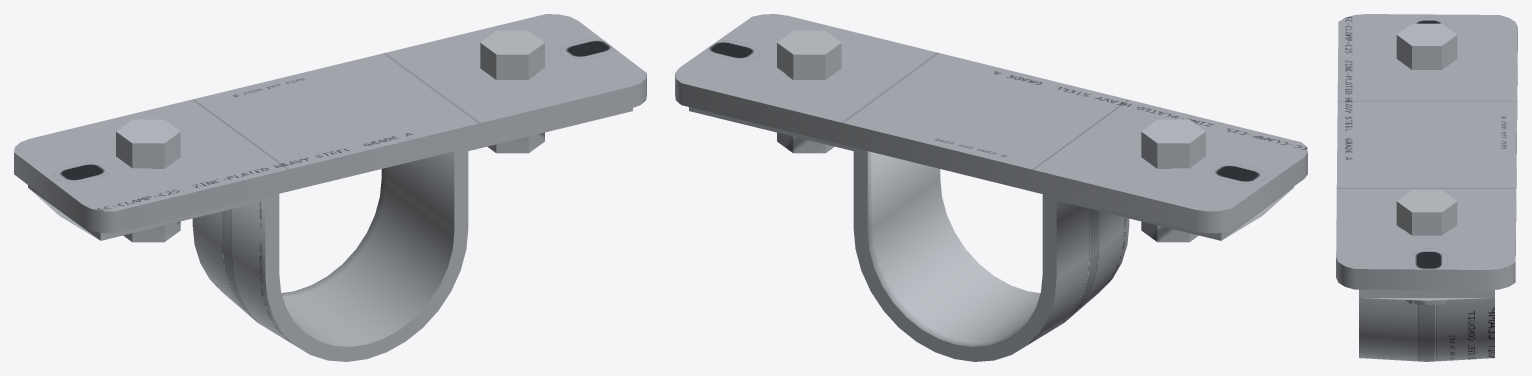
File: SEC_Ceiling_Conduit_Clamp.fbx
3 views of the same model, side by side, from view 1: azimuth 30°, elevation 25°; view 2: azimuth 150°, elevation 25°; view 3: azimuth 270°, elevation 25° (orthographic). The views are drawn at different scales.
Parts seen in each view (by area): view 1: Ceiling_Plate, Clamp_Band, Screw_Left, Screw_Right; view 2: Ceiling_Plate, Clamp_Band, Screw_Left, Screw_Right; view 3: Ceiling_Plate, Clamp_Band, Screw_Right, Screw_Left.
Part boxes in pixels (<box>): Ceiling_Plate: <box>14,14,646,233</box>; Clamp_Band: <box>28,108,632,361</box>; Screw_Left: <box>116,119,180,242</box>; Screw_Right: <box>480,30,544,153</box>; Ceiling_Plate: <box>675,14,1307,233</box>; Clamp_Band: <box>689,107,1293,361</box>; Screw_Left: <box>1141,119,1205,242</box>; Screw_Right: <box>777,30,841,153</box>; Ceiling_Plate: <box>1336,14,1517,290</box>; Clamp_Band: <box>1359,289,1494,361</box>; Screw_Right: <box>1396,190,1457,304</box>; Screw_Left: <box>1396,23,1457,69</box>.
Bounding box in the file's own units: 8 × 3.4 × 2.4.
Materials: 1 (1 with a texture image).
